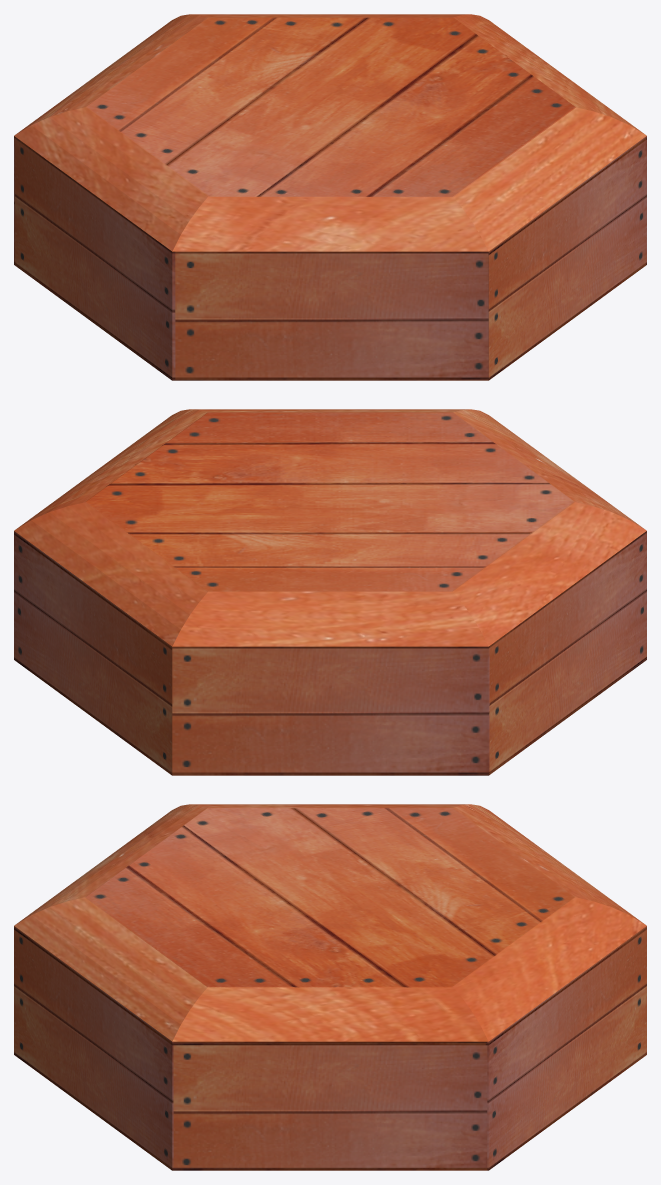
File: DAEwood.dae
3 renders of one model, top to bottom at view 1: azimuth 30°, elevation 25°; view 2: azimuth 150°, elevation 25°; view 3: azimuth 270°, elevation 25°, orthographic.
Visible parts, largest first — view 1: PolyLowRes; view 2: PolyLowRes; view 3: PolyLowRes.
Part boxes in pixels (x1,y1,x2,y2): PolyLowRes: [14, 14, 646, 380]; PolyLowRes: [14, 409, 646, 775]; PolyLowRes: [14, 804, 646, 1170].
Size of the model in its own units: 1.73 by 2 by 0.55.
1 material, 1 textured.
